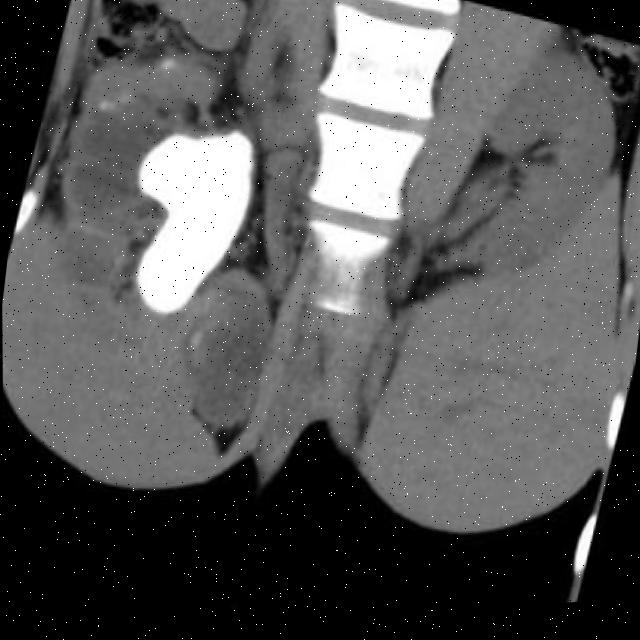Tas_Var: (84, 100, 272, 346)
